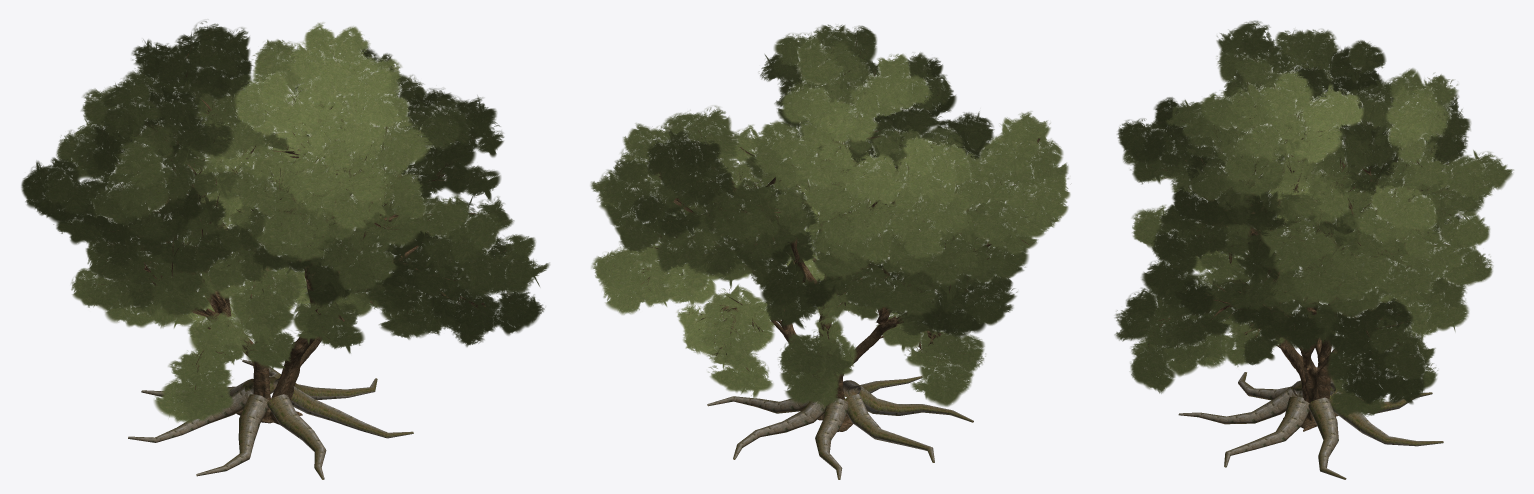
The model's file is heart_tree_real.glb.
3 views of the same model, side by side, from view 1: azimuth 30°, elevation 25°; view 2: azimuth 150°, elevation 25°; view 3: azimuth 270°, elevation 25° (orthographic). The views are drawn at different scales.
Parts seen in each view (by area): view 1: HT_Leaves, HT_Branches, HT_Trunk, HT_Root5, HT_Root6, HT_Root7, HT_Root4, HT_Root1; view 2: HT_Leaves, HT_Branches, HT_Trunk, HT_Root4, HT_Root3, HT_Root5, HT_Root2, HT_Root1, HT_Root6; view 3: HT_Leaves, HT_Trunk, HT_Branches, HT_Root7, HT_Root1, HT_Root6, HT_Root2, HT_Root5.
Part boxes in pixels (<box>): HT_Leaves: <box>21,21,549,423</box>; HT_Branches: <box>44,34,511,390</box>; HT_Trunk: <box>206,236,369,424</box>; HT_Root5: <box>196,394,268,476</box>; HT_Root6: <box>267,394,326,479</box>; HT_Root7: <box>290,386,413,438</box>; HT_Root4: <box>128,386,252,442</box>; HT_Root1: <box>273,378,377,399</box>; HT_Leaves: <box>590,24,1070,408</box>; HT_Branches: <box>611,42,1039,378</box>; HT_Trunk: <box>752,218,897,431</box>; HT_Root4: <box>844,394,934,462</box>; HT_Root3: <box>815,398,848,479</box>; HT_Root5: <box>853,386,973,422</box>; HT_Root2: <box>733,399,825,459</box>; HT_Root1: <box>707,396,808,413</box>; HT_Root6: <box>843,376,922,397</box>; HT_Leaves: <box>1114,20,1513,416</box>; HT_Trunk: <box>1264,256,1377,431</box>; HT_Branches: <box>1128,49,1451,377</box>; HT_Root7: <box>1224,396,1309,467</box>; HT_Root1: <box>1308,397,1346,479</box>; HT_Root6: <box>1178,386,1298,424</box>; HT_Root2: <box>1329,391,1443,446</box>; HT_Root5: <box>1238,372,1302,400</box>.
Size of the model in its own units: 25.92 by 20.69 by 20.62.
4 materials, 4 textured.
